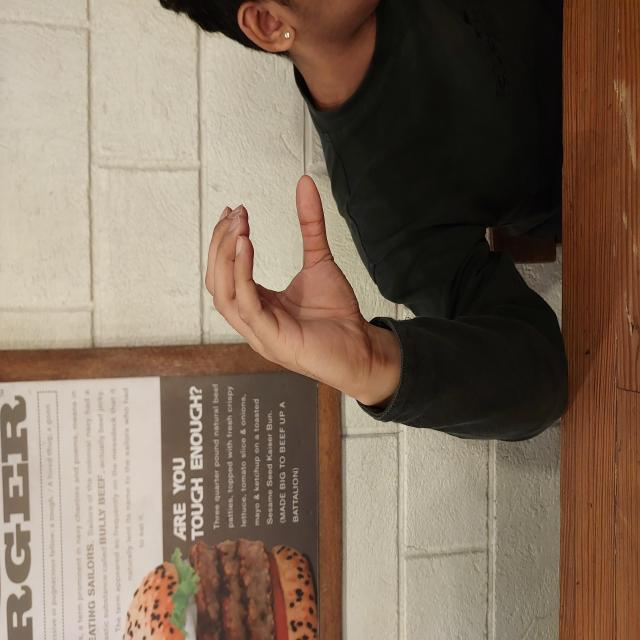C: (267, 202, 468, 374)
